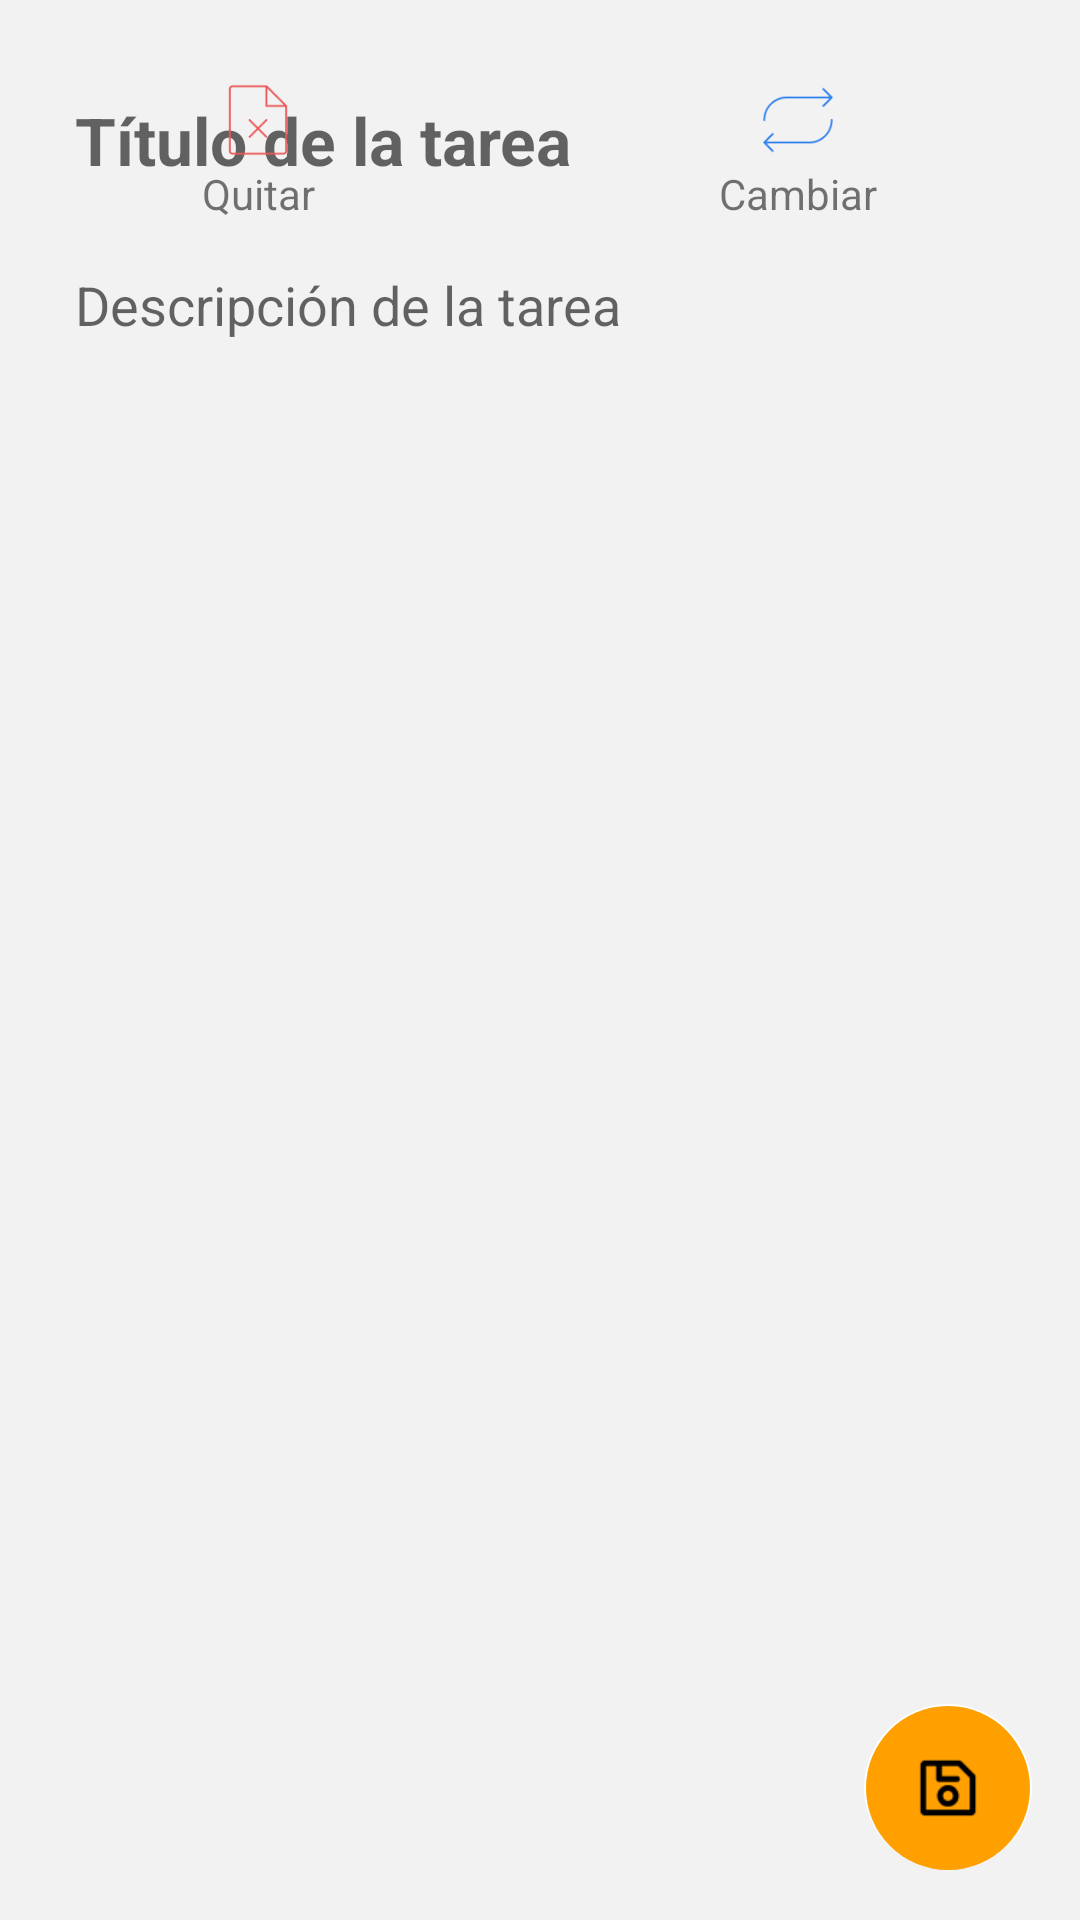

Where to tap for icons on this 1080px x 1920px app screen, as (x,y):
floppydisk: (948,1788)
